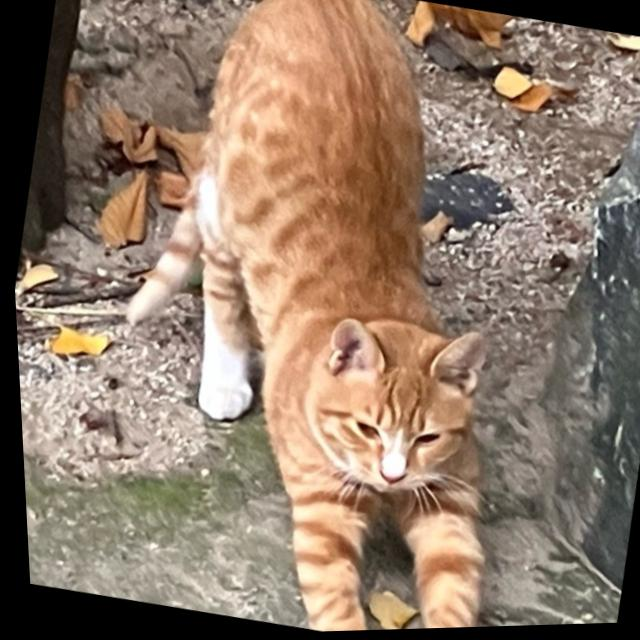animals: (55, 0, 632, 639)
